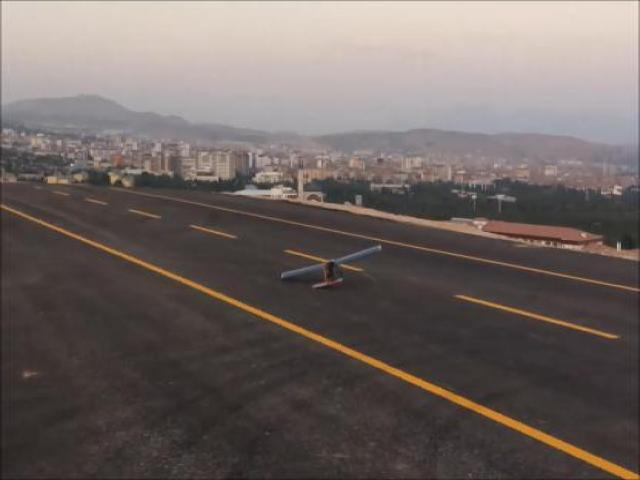uav: (273, 237, 389, 303)
